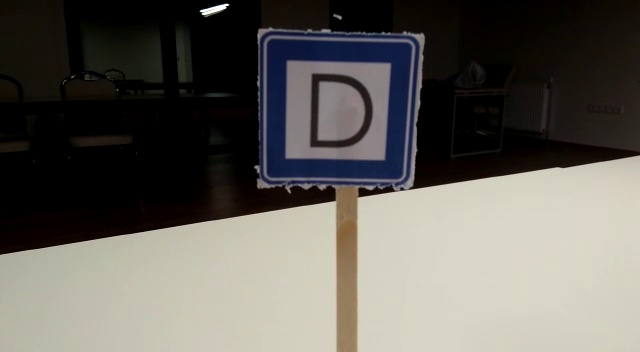durak: (259, 33, 424, 187)
